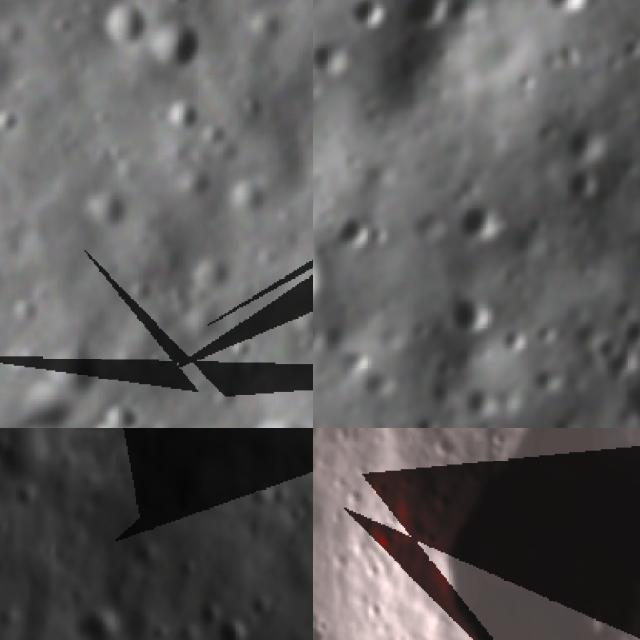crater: (432, 428, 640, 640), (133, 0, 224, 88), (68, 165, 147, 246), (87, 0, 167, 64), (152, 77, 214, 141), (226, 387, 313, 428), (313, 30, 366, 76), (461, 198, 509, 244), (448, 294, 495, 337), (289, 345, 313, 428), (567, 120, 614, 162), (76, 598, 122, 640), (464, 380, 508, 422), (330, 211, 371, 254), (561, 164, 603, 204), (400, 0, 451, 31), (349, 0, 396, 33), (619, 363, 640, 428), (592, 332, 628, 367), (500, 324, 534, 358), (220, 612, 253, 640), (364, 222, 398, 249), (539, 0, 590, 15), (619, 313, 640, 348), (313, 610, 337, 640), (187, 419, 261, 428), (618, 34, 640, 62), (412, 410, 446, 428), (0, 441, 10, 485)
